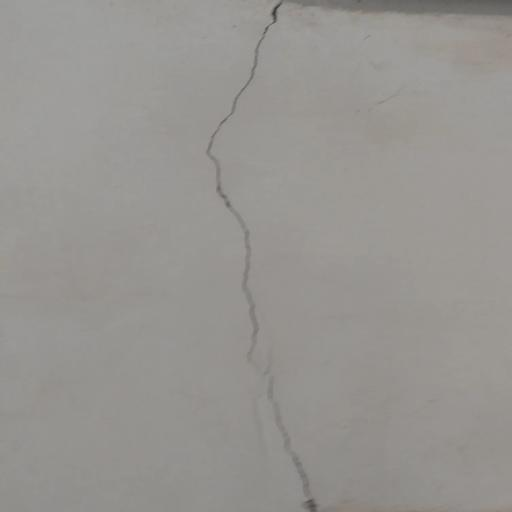minor_crack: (188, 3, 355, 512)
